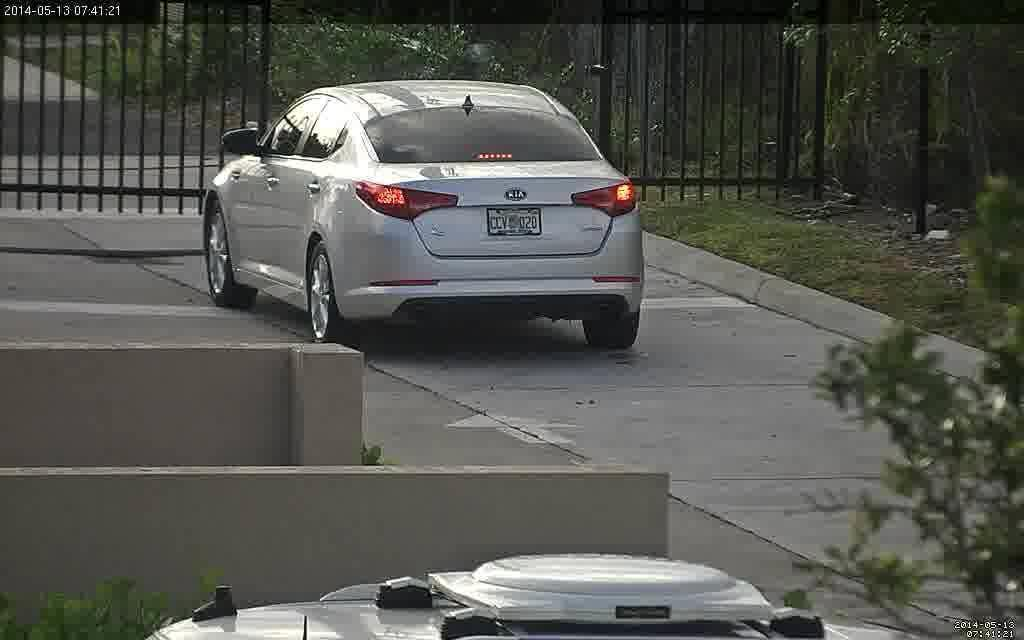placa de veiculo: (462, 202, 551, 255)
